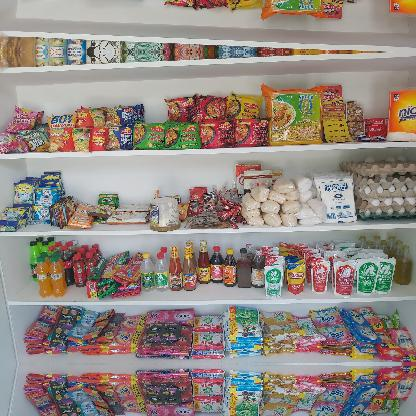Lady-s-Choice: (150, 197, 180, 231)
